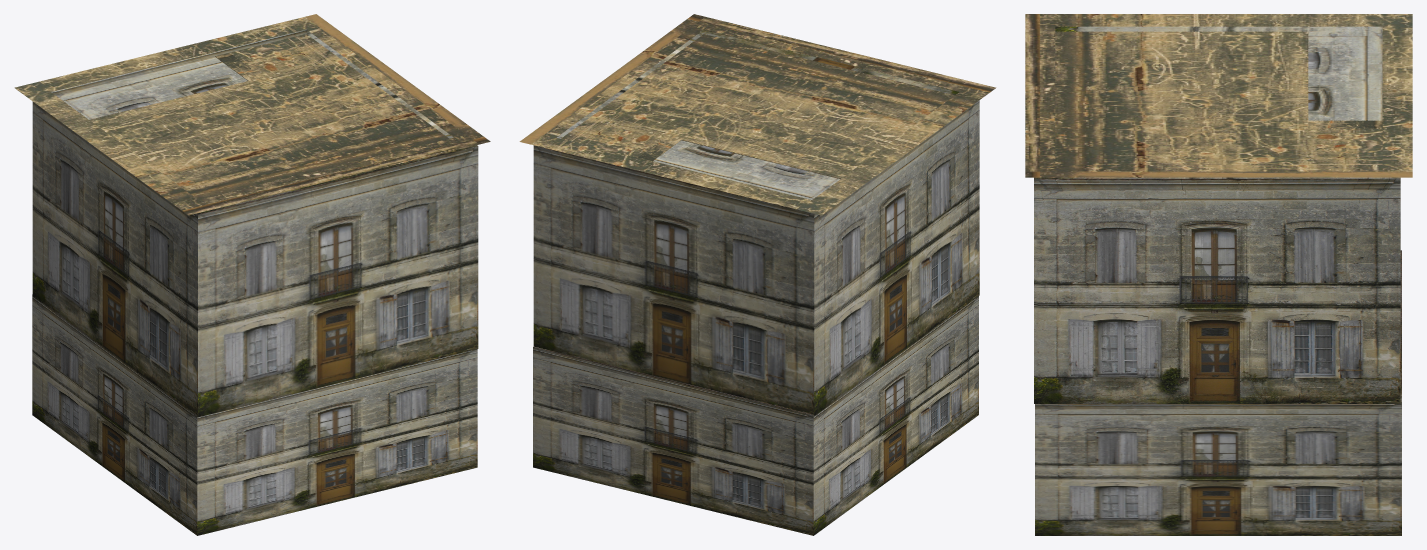
Rendered from BagBuilding20_0.fbx.
3 views of the same model, side by side, from view 1: azimuth 30°, elevation 25°; view 2: azimuth 150°, elevation 25°; view 3: azimuth 270°, elevation 25° (orthographic). The views are drawn at different scales.
Visible parts, largest first — view 1: box0, boxb0, roof0; view 2: box0, boxb0, roof0; view 3: box0, roof0, boxb0.
Part boxes in pixels (x1,y1,x2,y2): box0: (32,29,478,417); boxb0: (32,294,477,535); roof0: (14,14,490,215); box0: (533,29,979,415); boxb0: (533,296,978,535); roof0: (519,14,996,215); box0: (1034,26,1400,403); roof0: (1025,14,1412,177); boxb0: (1035,250,1401,535).
Bounding box in the file's own units: 18.19 × 18.79 × 18.19.
